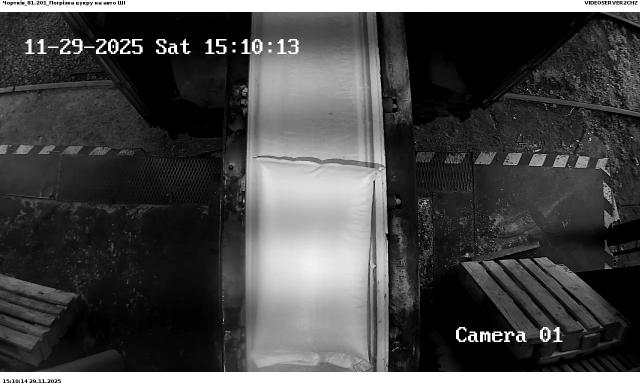bag: (254, 157, 385, 372)
